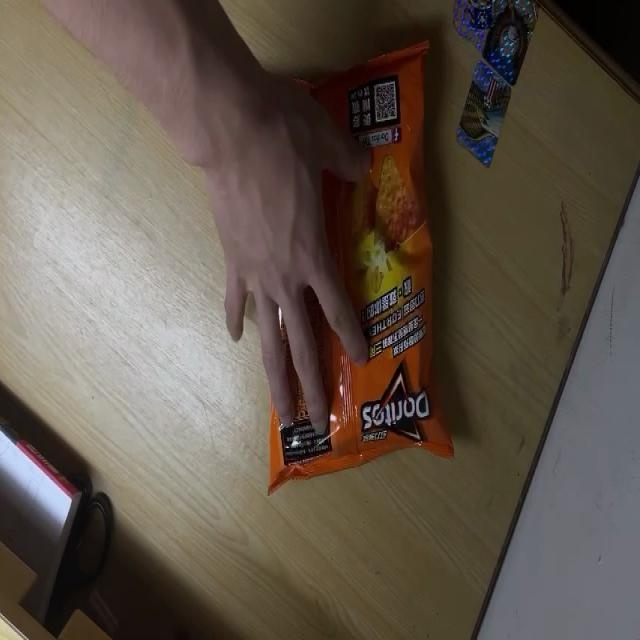Doritos: (251, 43, 455, 499)
